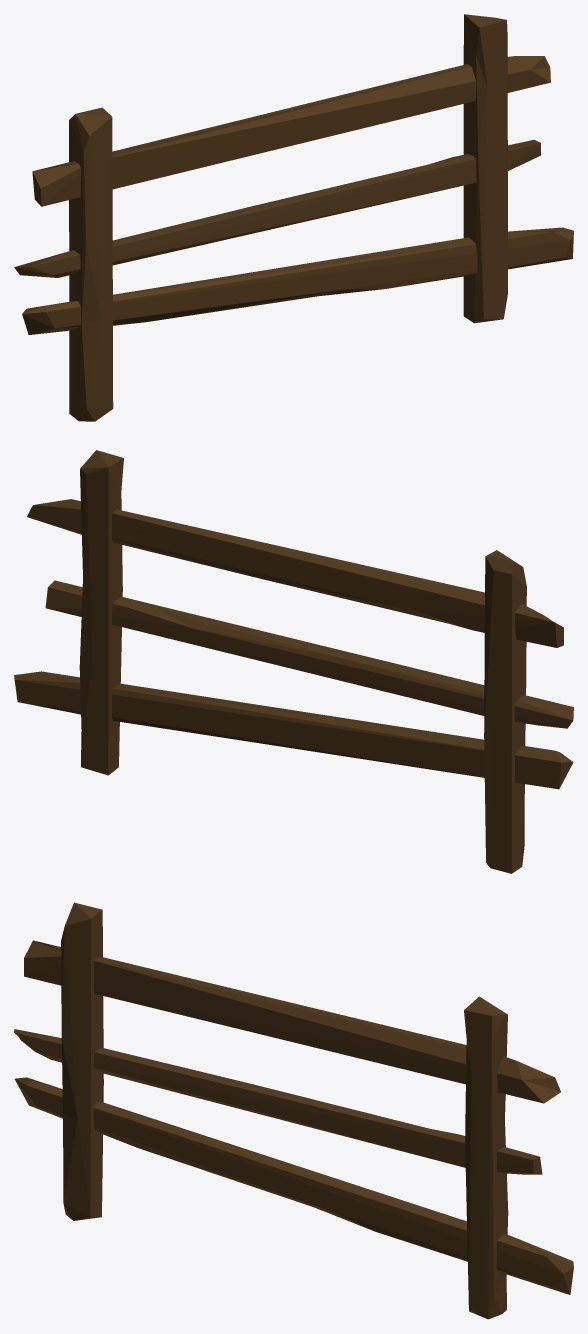
File: SM_fence_04.fbx
3 renders of one model, top to bottom at view 1: azimuth 30°, elevation 25°; view 2: azimuth 150°, elevation 25°; view 3: azimuth 330°, elevation 25°, orthographic.
Parts seen in each view (by area): view 1: Object32410; view 2: Object32410; view 3: Object32410.
Boxes of the visible parts, x1,y1,x2,y2 form: Object32410: (14,14,573,421); Object32410: (14,450,573,873); Object32410: (14,902,573,1319).
Bounding box in the file's own units: 78.45 × 41 × 4.
